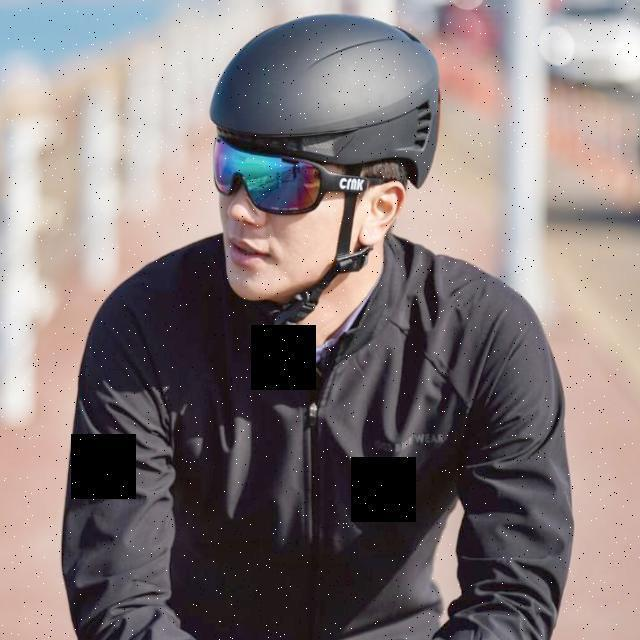helmet: (204, 12, 442, 322)
